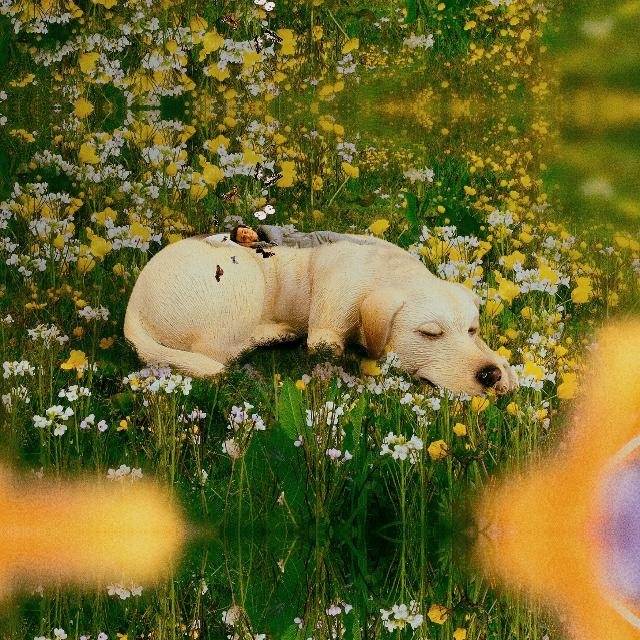dog: (356, 267, 532, 403)
